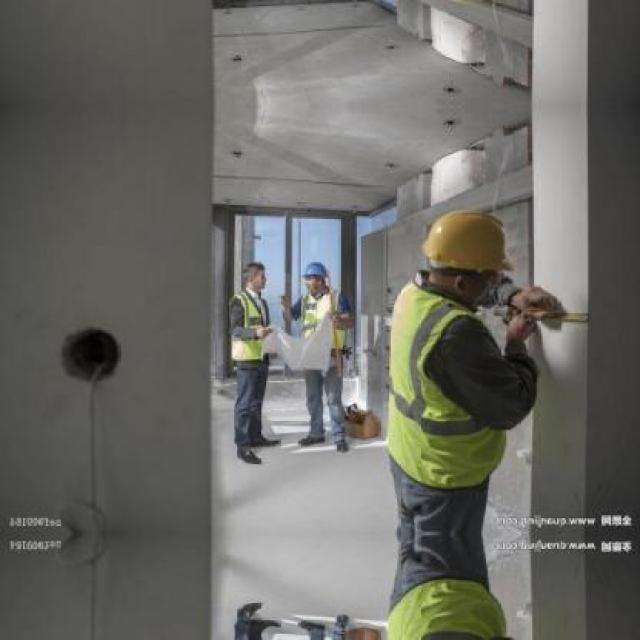Reflective-Jacket: (368, 289, 523, 498), (288, 287, 349, 375), (218, 288, 278, 375)
Safety-Helmet: (404, 203, 524, 287), (297, 256, 334, 282)
